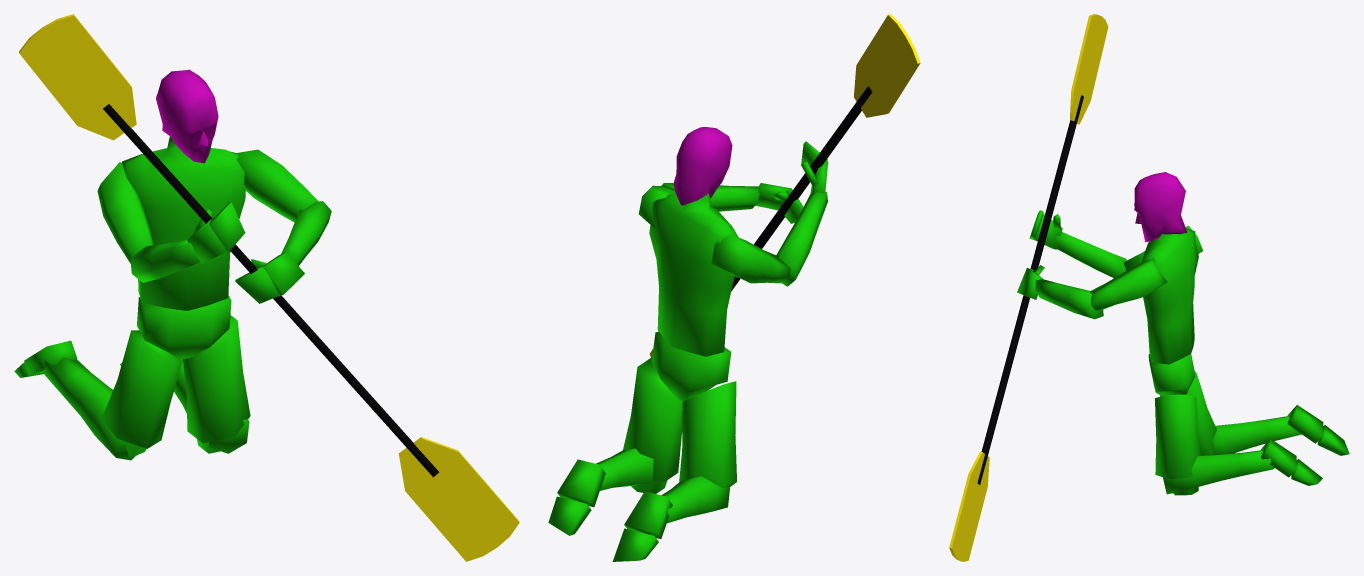
File: RowingCharacter.FBX
3 renders of one model, left to right at view 1: azimuth 30°, elevation 25°; view 2: azimuth 150°, elevation 25°; view 3: azimuth 270°, elevation 25°, orthographic. The views are drawn at different scales.
Parts seen in each view (by area): view 1: Body, Oar, Head; view 2: Body, Oar, Head; view 3: Body, Oar, Head.
Part boxes in pixels (box(x1,y1,x2,y2)): Body: box(14, 136, 331, 460); Oar: box(19, 14, 519, 561); Head: box(156, 69, 218, 163); Body: box(548, 141, 828, 561); Oar: box(650, 14, 920, 358); Head: box(673, 127, 732, 205); Body: box(1017, 210, 1349, 495); Oar: box(949, 14, 1108, 561); Head: box(1134, 172, 1187, 242).
Size of the model in its own units: 1.48 by 1.99 by 1.69.
